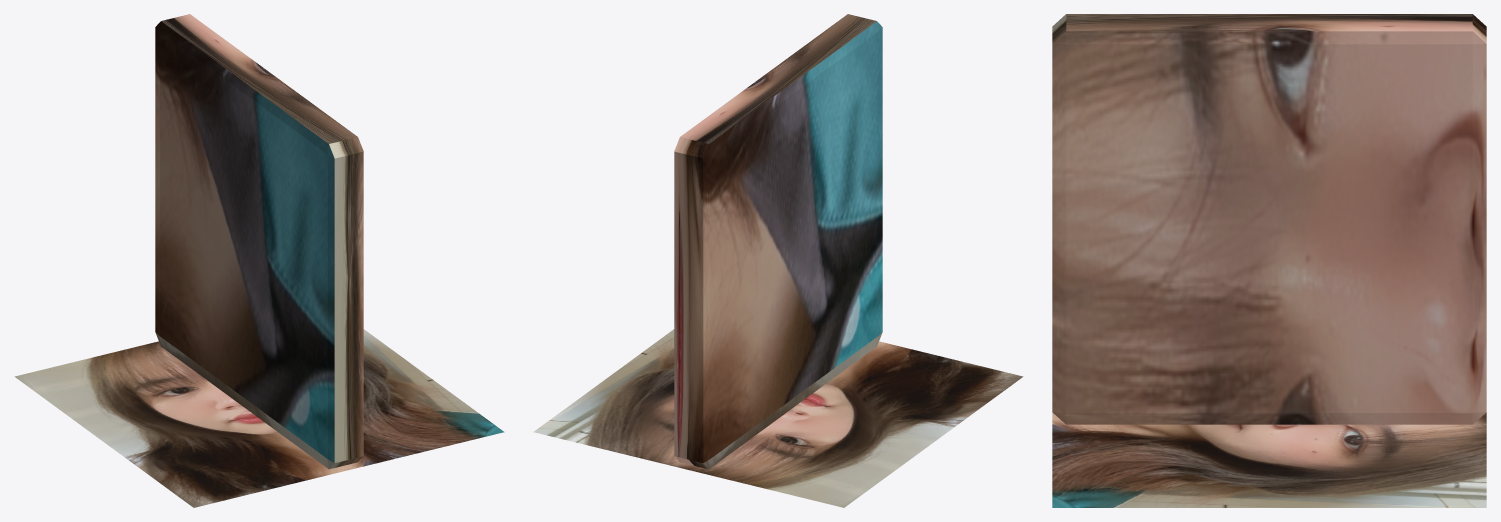
3 renders of one model, left to right at view 1: azimuth 30°, elevation 25°; view 2: azimuth 150°, elevation 25°; view 3: azimuth 270°, elevation 25°, orthographic. The views are drawn at different scales.
Visible parts, largest first — view 1: Cube, Plane; view 2: Cube, Plane; view 3: Cube, Plane.
Boxes of the visible parts, x1,y1,x2,y2 form: Cube: (155, 14, 363, 469); Plane: (14, 329, 504, 507); Cube: (674, 14, 882, 469); Plane: (533, 329, 1023, 507); Cube: (1052, 14, 1486, 424); Plane: (1052, 412, 1486, 507).
Bounding box in the file's own units: 1 × 1 × 1.
Materials: 2 (2 with a texture image).
